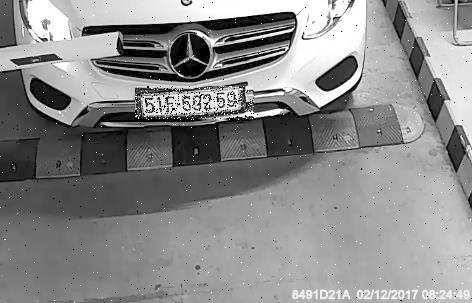License-plate: (137, 88, 256, 122)
